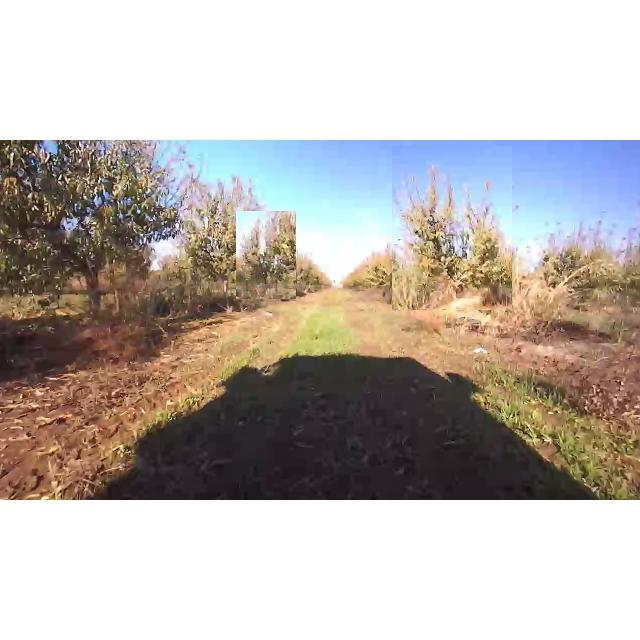direk: (0, 143, 202, 325), (392, 146, 512, 310), (169, 165, 275, 317), (236, 211, 296, 299)
